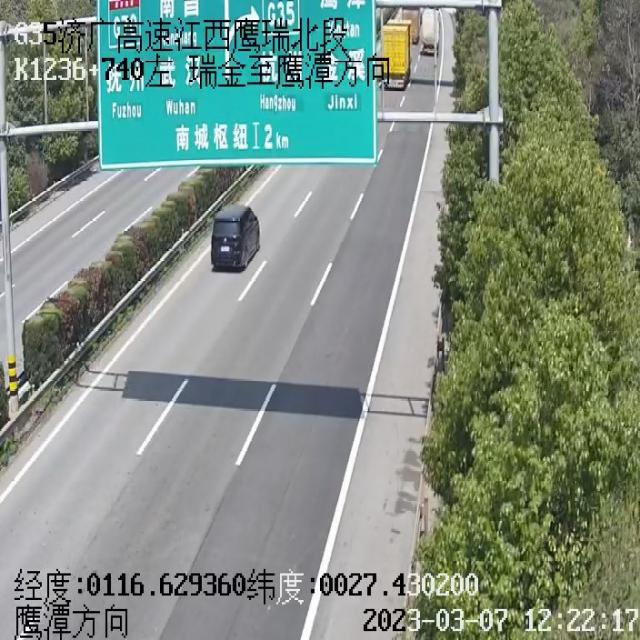cover: (354, 4, 464, 137)
